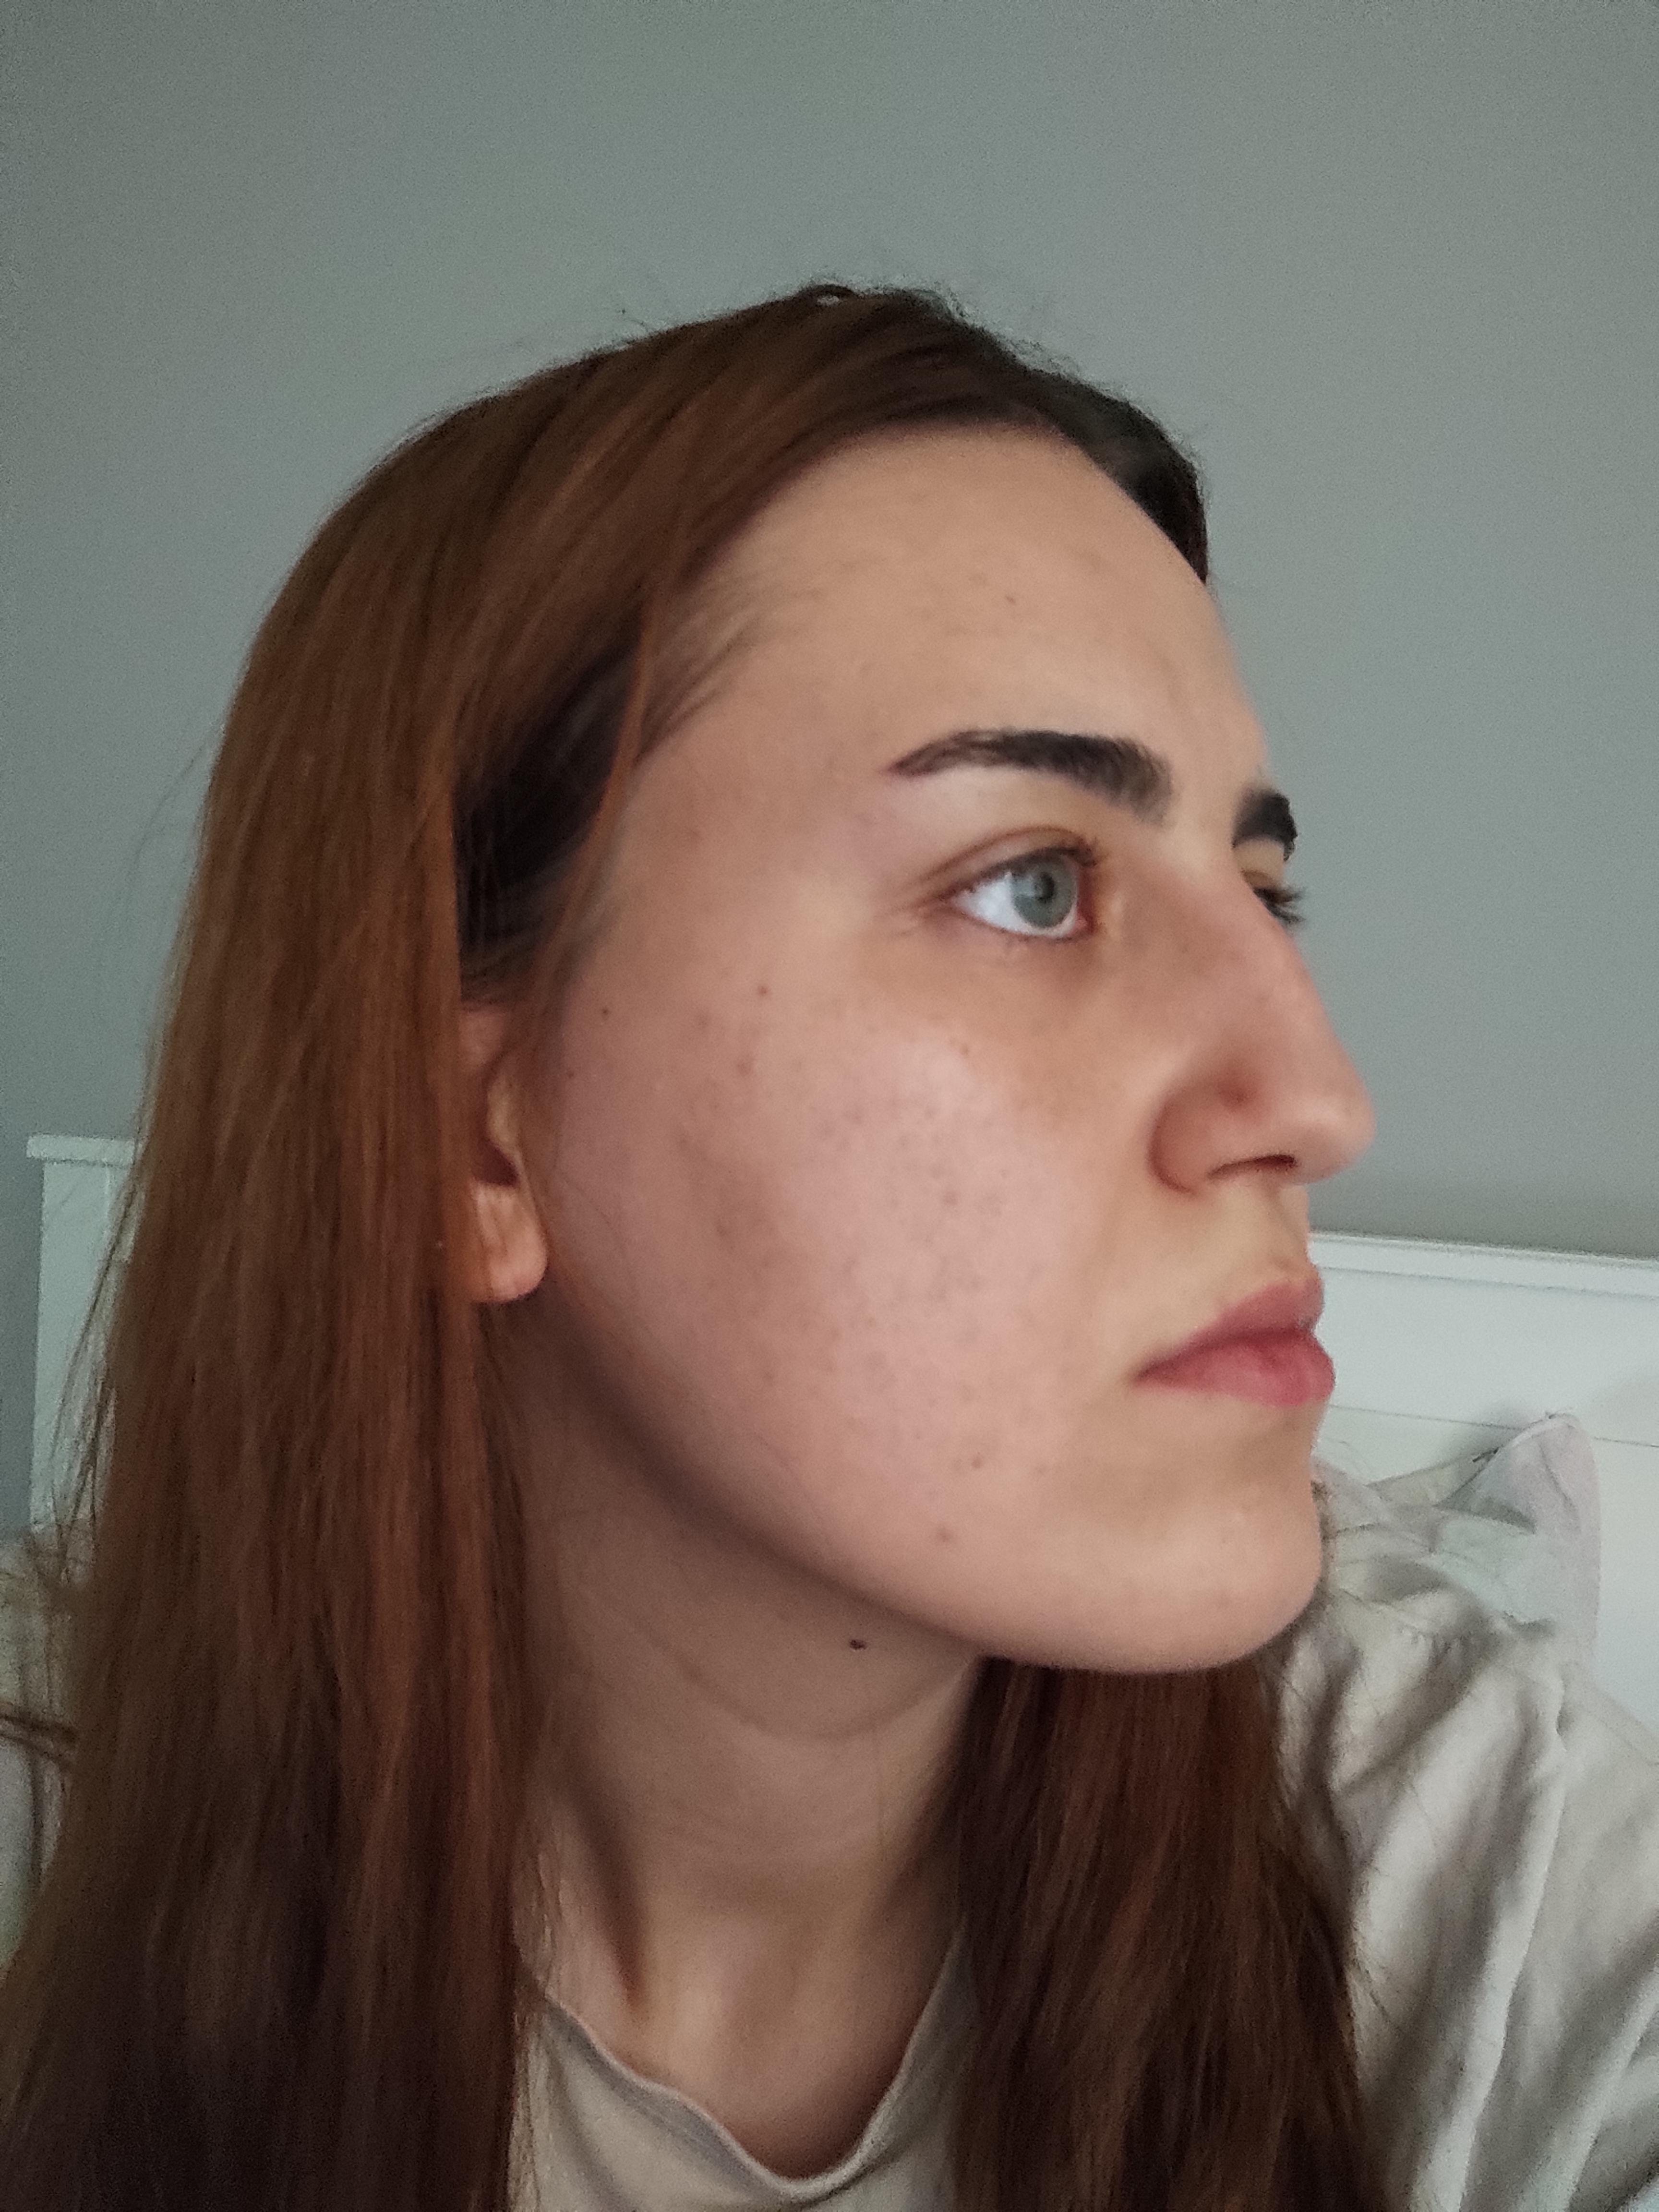Acne: (798, 1097, 875, 1151), (906, 1141, 962, 1204), (1213, 1061, 1263, 1116), (852, 1345, 894, 1402), (946, 1447, 1000, 1491), (671, 1010, 720, 1050), (697, 1211, 727, 1268), (721, 1045, 765, 1083), (917, 1519, 960, 1557)
